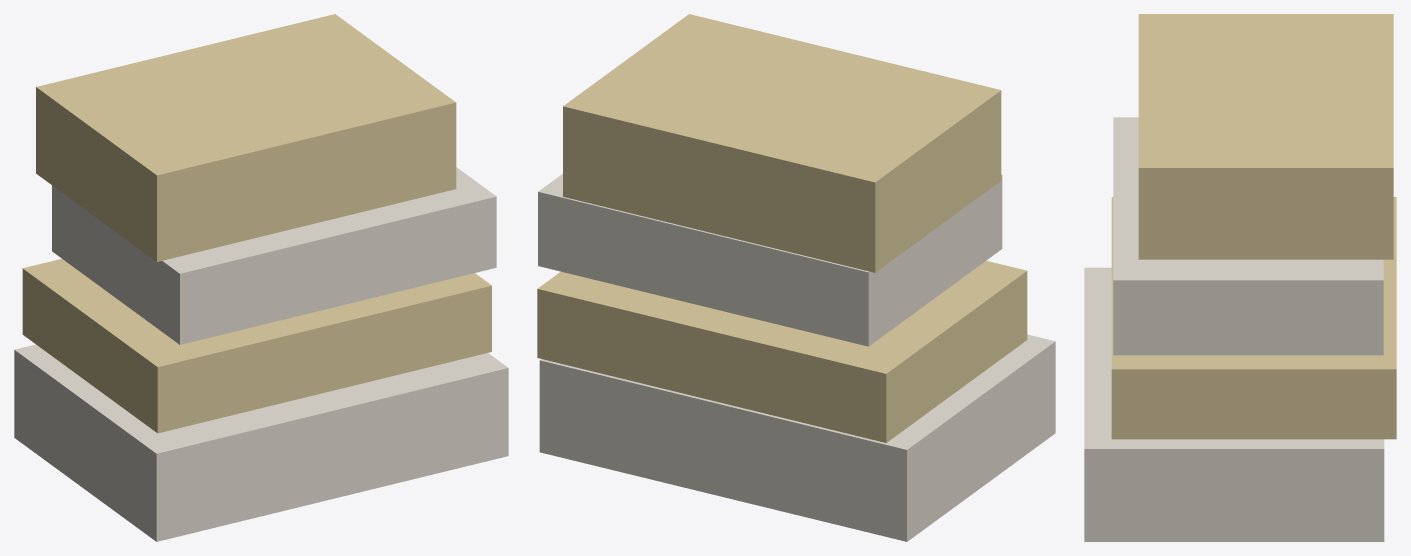
File: mdl_rocks_rock_sandstone_001.glb
The picture shows the model from 3 angles, left to right: view 1: azimuth 30°, elevation 25°; view 2: azimuth 150°, elevation 25°; view 3: azimuth 270°, elevation 25°; orthographic projection. The views are drawn at different scales.
Parts seen in each view (by area): view 1: m_ocre, m_caliza; view 2: m_ocre, m_caliza; view 3: m_ocre, m_caliza.
Boxes of the visible parts, x1,y1,x2,y2 form: m_ocre: (22, 14, 491, 433); m_caliza: (14, 167, 508, 541); m_ocre: (537, 14, 1027, 442); m_caliza: (538, 174, 1055, 541); m_ocre: (1111, 14, 1396, 439); m_caliza: (1084, 117, 1384, 541).
Bounding box in the file's own units: 1.05 × 0.9679 × 0.7613.
